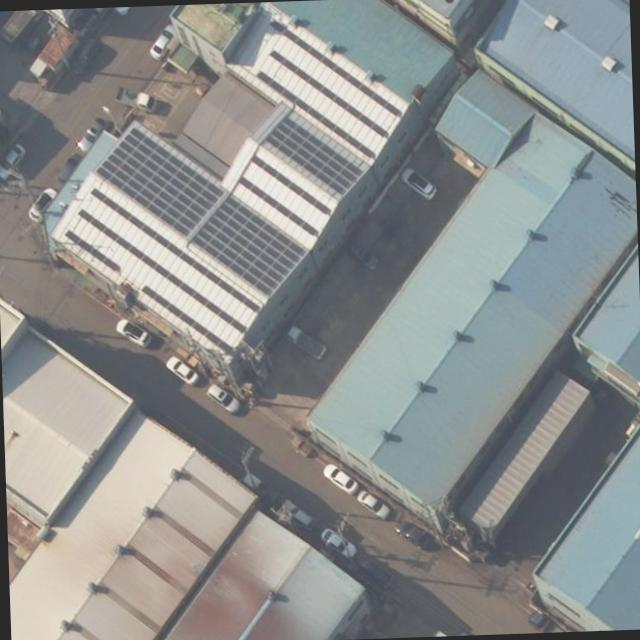solar: (90, 182, 260, 319), (80, 202, 246, 342), (90, 119, 228, 242), (188, 190, 310, 300), (252, 64, 378, 162), (266, 44, 388, 142), (283, 27, 404, 122), (260, 111, 366, 197), (143, 282, 236, 358), (64, 227, 122, 274)
